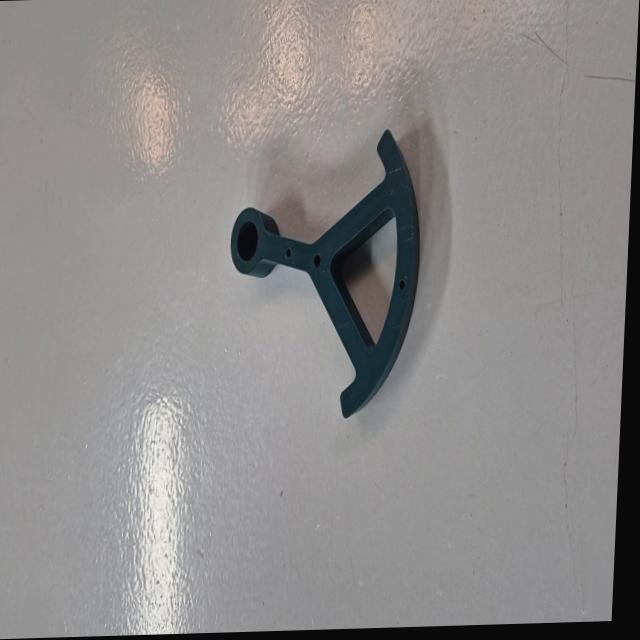haptic: (221, 124, 428, 424)
